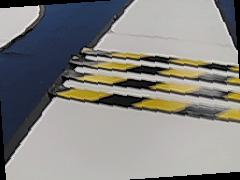bump: (51, 43, 237, 123)
